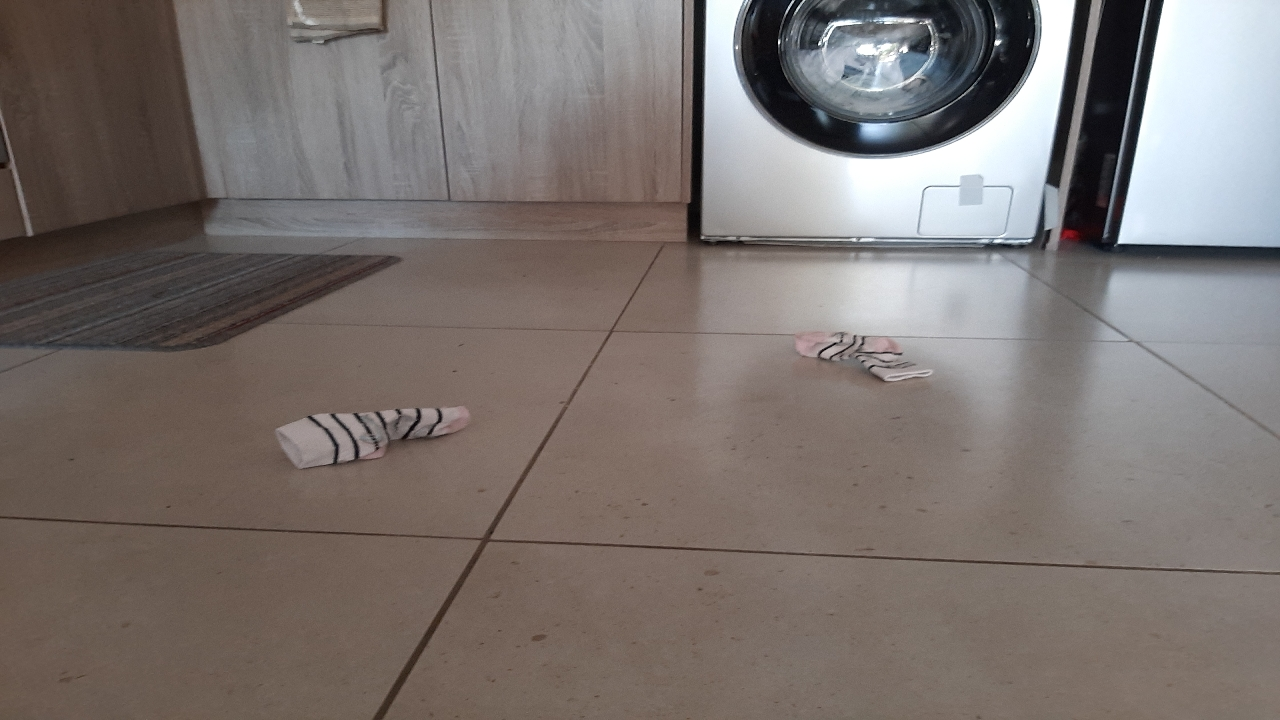socks: (734, 286, 981, 434), (265, 372, 523, 509)
